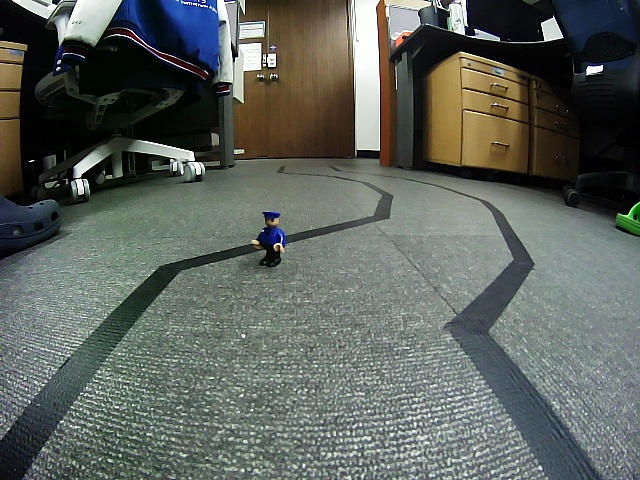person: (252, 211, 287, 268)
